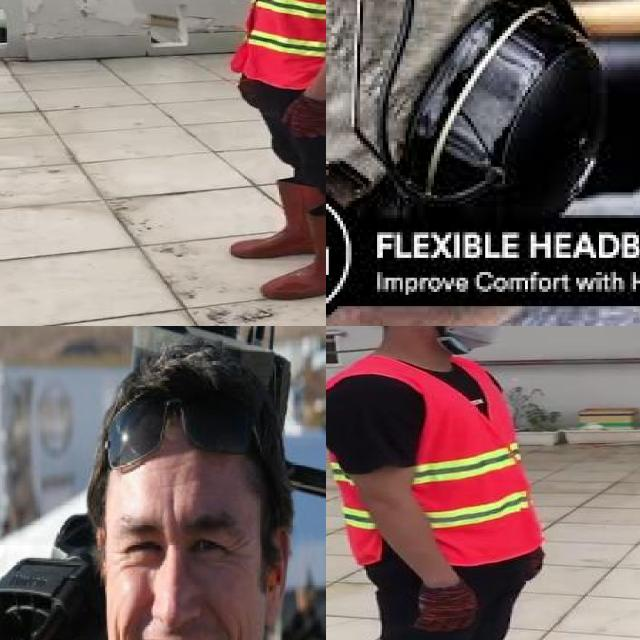Ear-protection: (399, 0, 607, 212)
No_Ear-Protection: (253, 520, 294, 635)
No_Glasses: (88, 490, 259, 575)
boots: (230, 181, 324, 258), (261, 215, 326, 299)
face_mask: (430, 326, 513, 350)
face_nomask: (109, 513, 252, 640)
glasses: (100, 384, 266, 470)
hand_glove: (411, 584, 476, 632), (277, 97, 326, 137), (528, 547, 544, 585)
head_nohelmet: (86, 335, 281, 487)
person: (25, 328, 326, 640), (326, 326, 583, 640), (208, 0, 326, 305)
vest: (326, 353, 540, 564), (238, 0, 326, 92)
